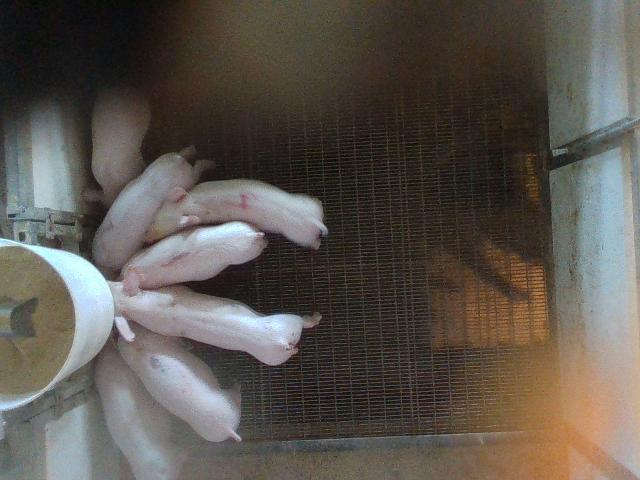pig-1: (122, 221, 268, 289)
pig-4: (145, 179, 328, 249)
